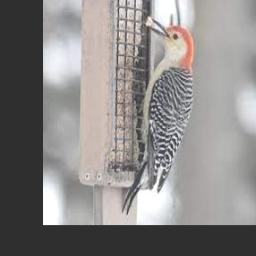Woodpecker: (122, 17, 193, 214)
